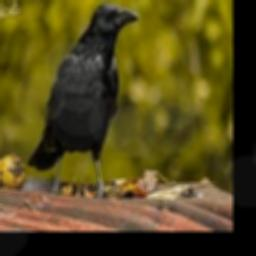Crow: (28, 2, 139, 195)
